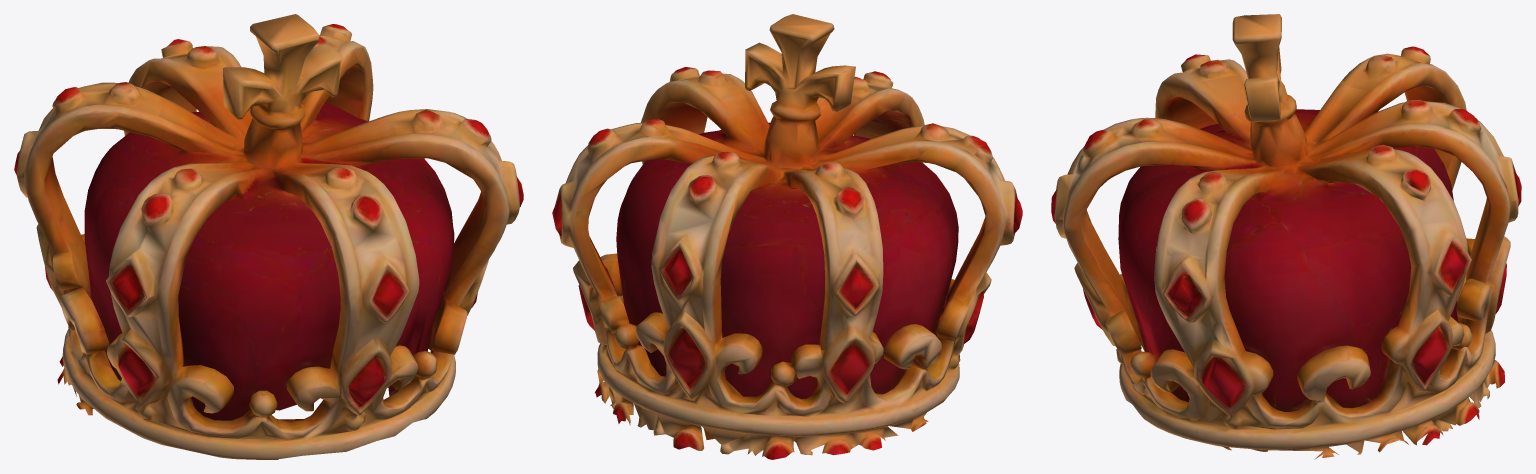
3 views of the same model, side by side, from view 1: azimuth 30°, elevation 25°; view 2: azimuth 150°, elevation 25°; view 3: azimuth 270°, elevation 25° (orthographic). The views are drawn at different scales.
Visible parts, largest first — view 1: material; view 2: material; view 3: material.
Part boxes in pixels (x1,y1,x2,y2): material: (14,14,523,459); material: (552,14,1022,459); material: (1051,14,1521,459).
Size of the model in its own units: 0.8359 by 0.7256 by 0.864.
Materials: 1 (1 with a texture image).
